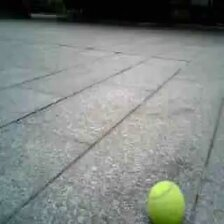tennis: (147, 180, 186, 224)
